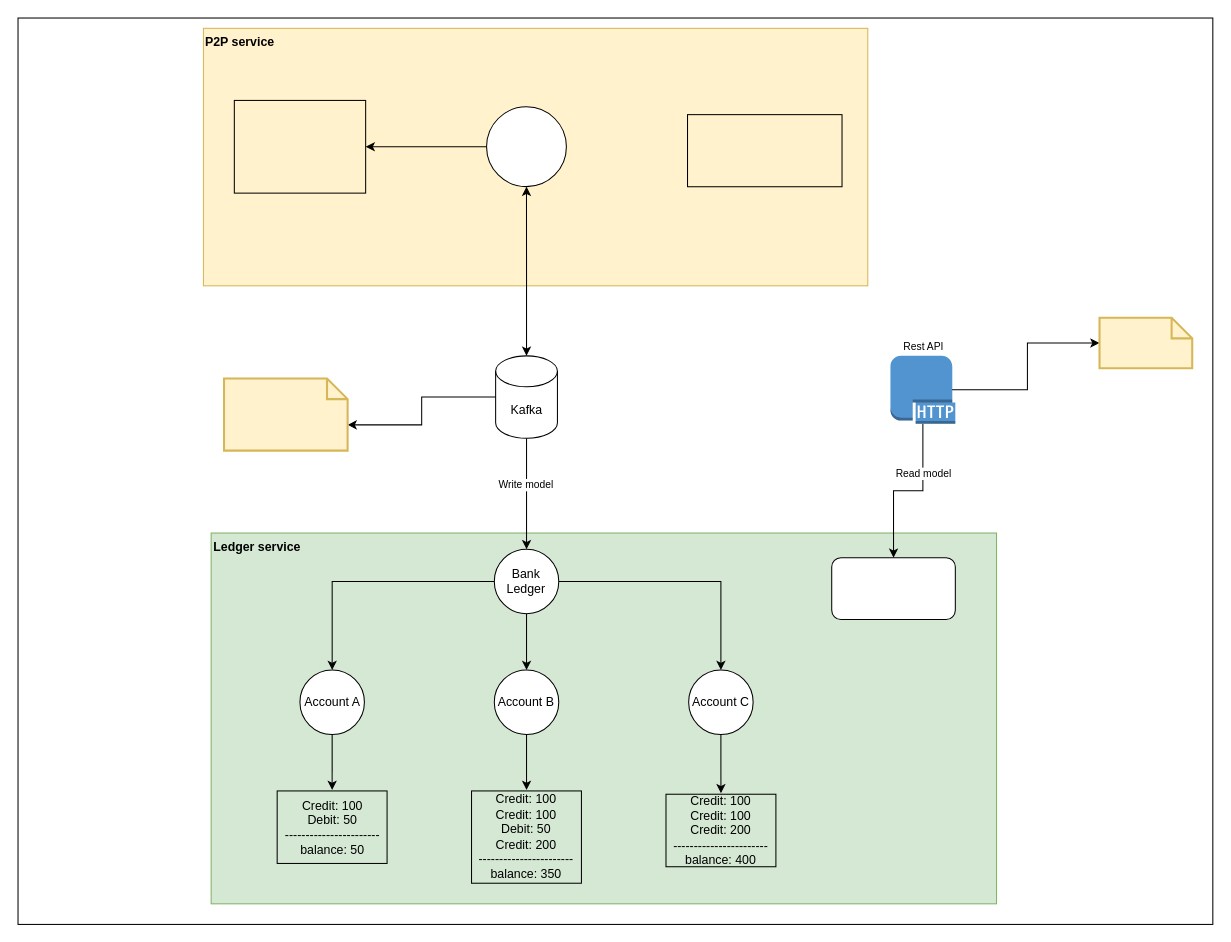
Some shapes in this 1231 by 942 pixel diagram are drawn without their labels. Here are the shapes that lost their labels. From the top down, the centre of each, then its label:
the point at 299,146: origin: Account A destination: Account B amount: 100 status: pending
the point at 526,146: P2P
the point at 764,150: - Rules: - minimum of 10 - accounts must be different
the point at 1145,342: Query model
the point at 285,414: Command model
the point at 893,588: Get Balance Get Transactions
